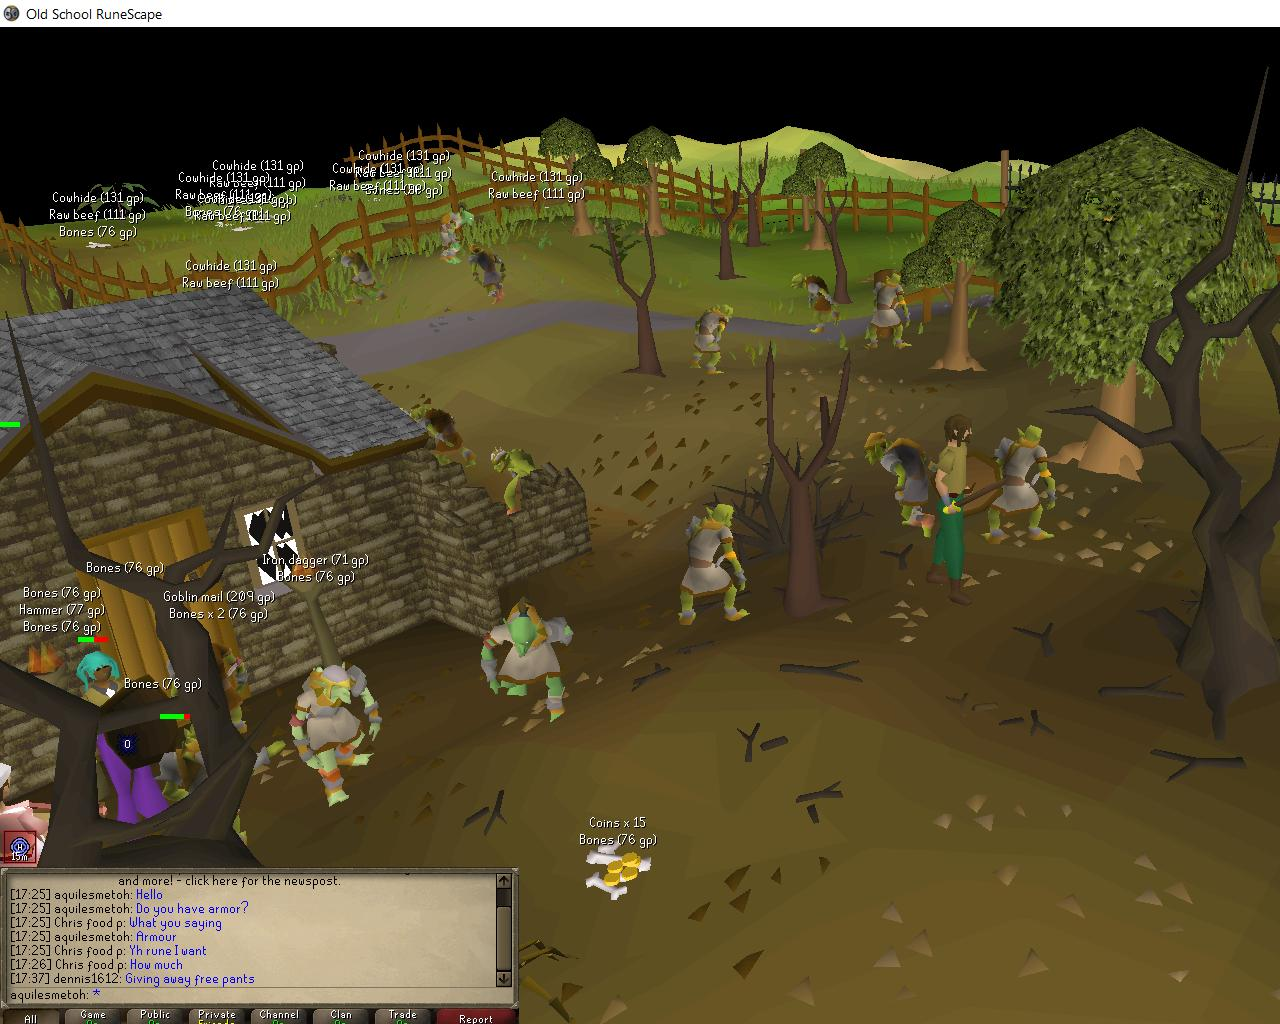Goblin: (278, 662, 405, 807), (159, 723, 262, 850), (474, 600, 581, 722), (669, 498, 762, 634), (863, 427, 955, 539), (157, 641, 255, 743), (984, 422, 1060, 546), (402, 403, 484, 466), (864, 272, 916, 352), (489, 445, 546, 517), (787, 273, 850, 336), (328, 249, 395, 307), (689, 301, 739, 376), (464, 245, 515, 307), (433, 206, 482, 267)
